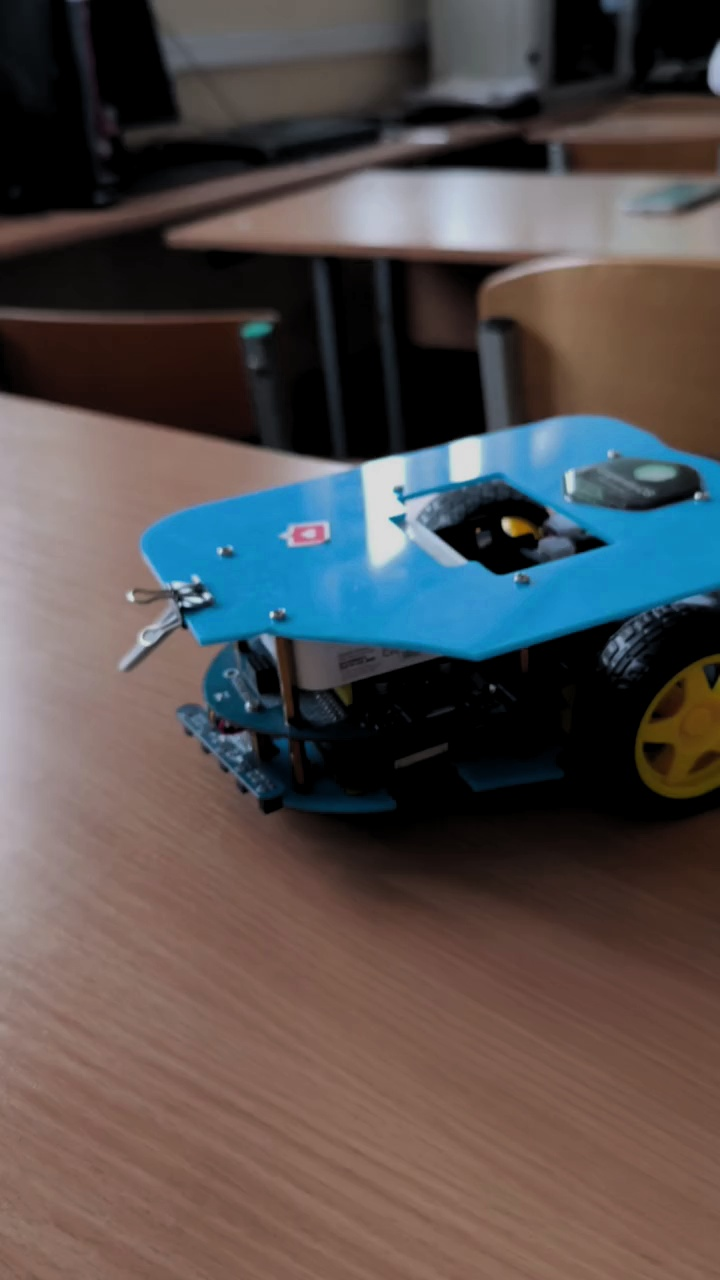robot: (116, 411, 720, 820)
